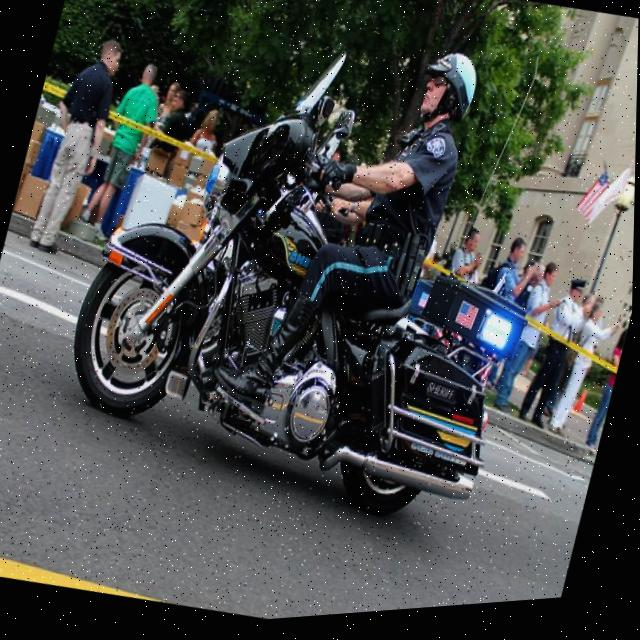motorcycle: (29, 27, 577, 565)
